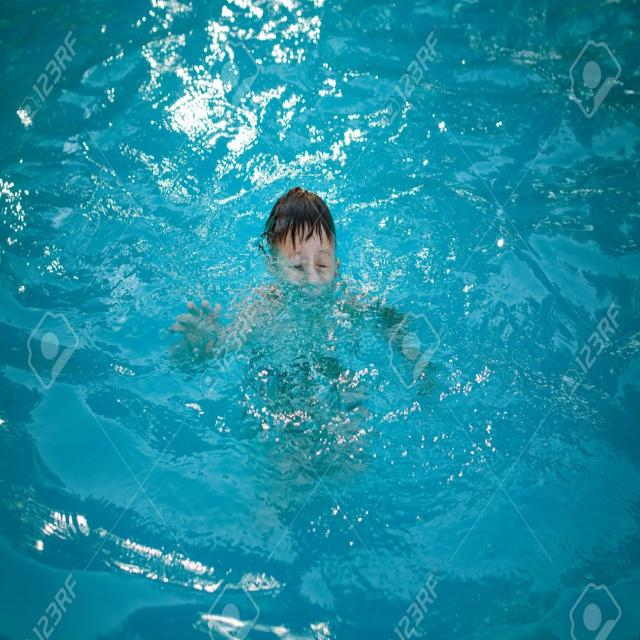Drowning: (179, 186, 436, 386)
